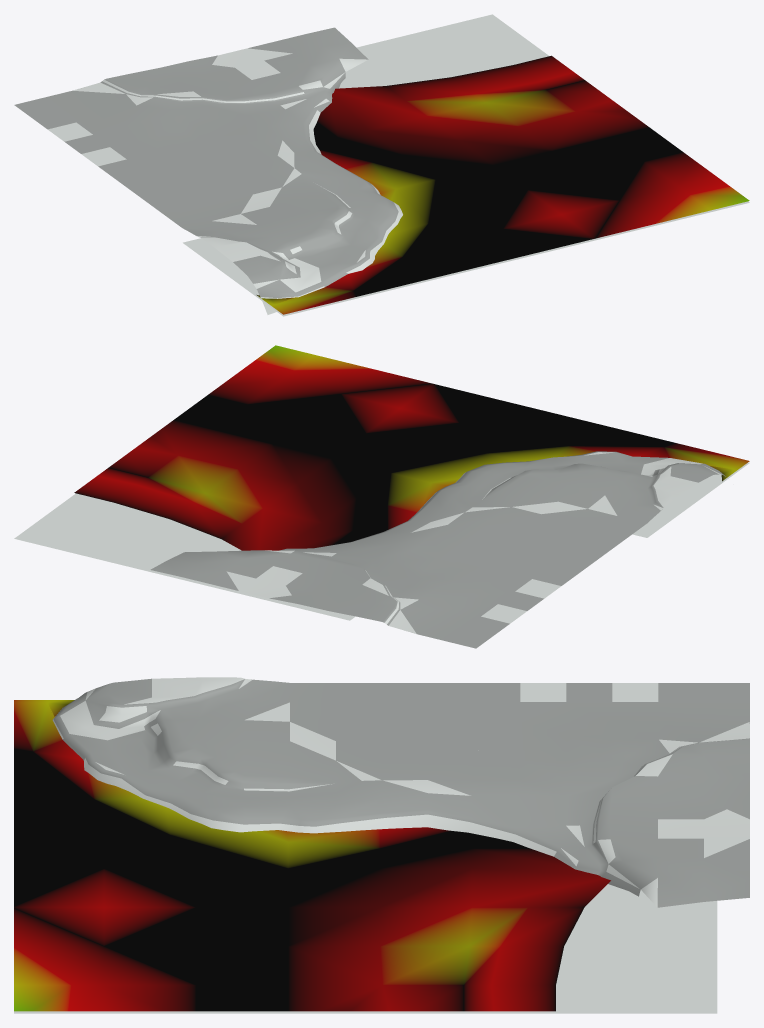
3 renders of one model, top to bottom at view 1: azimuth 30°, elevation 25°; view 2: azimuth 150°, elevation 25°; view 3: azimuth 270°, elevation 25°, orthographic. The views are drawn at different scales.
Parts seen in each view (by area): view 1: G:\FFXIV-MapTools\exports\g3f2\bg\ex2\01_gyr_g3\fld\g3f2\bgp (×10); view 2: G:\FFXIV-MapTools\exports\g3f2\bg\ex2\01_gyr_g3\fld\g3f2\bgp (×8); view 3: G:\FFXIV-MapTools\exports\g3f2\bg\ex2\01_gyr_g3\fld\g3f2\bgp (×11).
Boxes of the visible parts, x1=… form: G:\FFXIV-MapTools\exports\g3f2\bg\ex2\01_gyr_g3\fld\g3f2\bgp (×10): x1=14, y1=14, x2=749, y2=316; G:\FFXIV-MapTools\exports\g3f2\bg\ex2\01_gyr_g3\fld\g3f2\bgp (×8): x1=14, y1=345, x2=749, y2=648; G:\FFXIV-MapTools\exports\g3f2\bg\ex2\01_gyr_g3\fld\g3f2\bgp (×11): x1=14, y1=677, x2=749, y2=1013.
Size of the model in its own units: 128 by 8.18 by 128.
